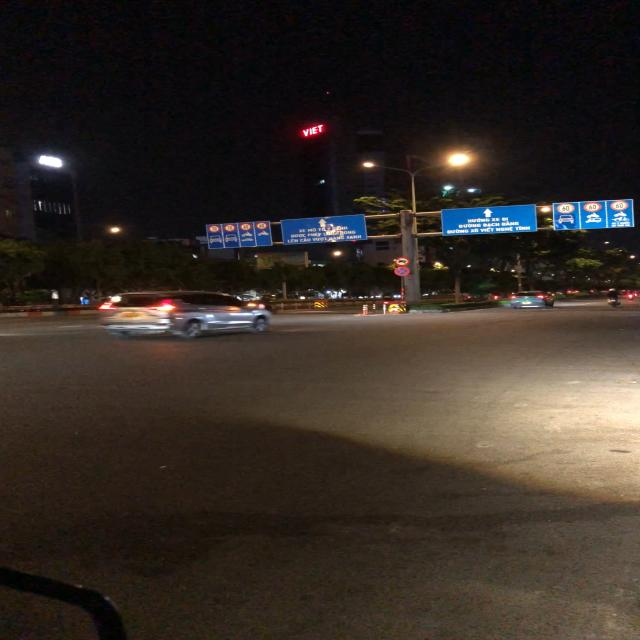Bien bao cam dung xe va do xe: (393, 266, 412, 276)
Bien bao cam xe oto tai: (394, 256, 411, 266)
Bien bao toc do toi da cho phep: (607, 200, 630, 211), (554, 204, 576, 214), (582, 202, 602, 212), (238, 223, 254, 231), (254, 221, 268, 230), (207, 225, 222, 233), (222, 224, 236, 232)
